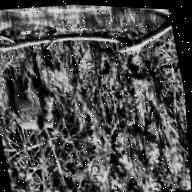boar: (0, 50, 65, 141)
